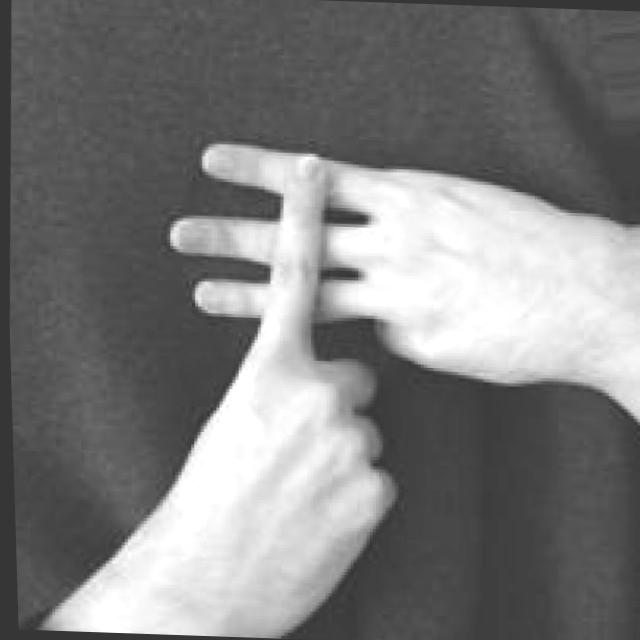E: (152, 136, 553, 580)
